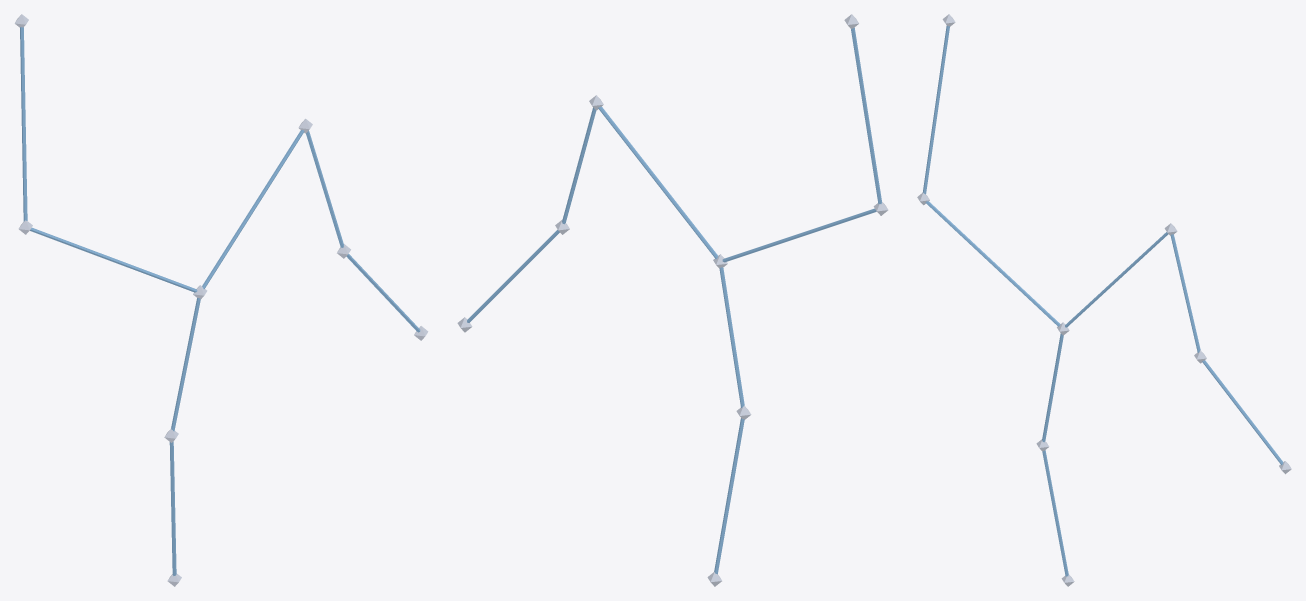
File: constellation-cam.glb
3 renders of one model, left to right at view 1: azimuth 30°, elevation 25°; view 2: azimuth 150°, elevation 25°; view 3: azimuth 330°, elevation 25°, orthographic. The views are drawn at different scales.
Size of the model in its own units: 1.93 by 2.66 by 0.2701.
